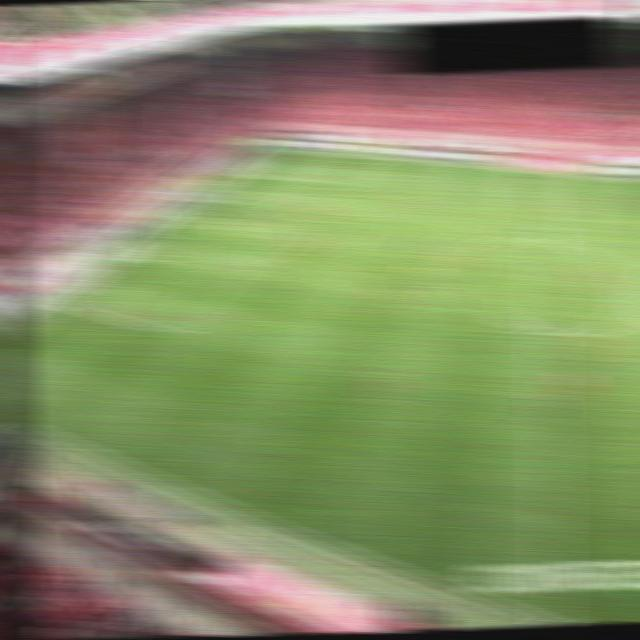bigarea_bottom_inner: (151, 320, 185, 342)
bigarea_bottom_outter: (41, 293, 76, 312)
bigarea_top_inner: (299, 172, 331, 187)
bigarea_top_outter: (215, 163, 248, 180)
bottom_arc_area_intersection: (217, 254, 249, 270)
corner: (248, 142, 285, 156)
halfcircle_bottom: (525, 313, 569, 344)
halfcircle_top: (524, 226, 566, 249)
midline_bottom_intersection: (530, 610, 574, 625)
midline_top_intersection: (523, 162, 560, 183)
smallarea_bottom_inner: (133, 249, 168, 269)
smallarea_bottom_outter: (104, 246, 138, 262)
smallarea_top_inner: (209, 191, 243, 208)
smallarea_top_outter: (182, 191, 213, 205)
top_arc_area_intersection: (267, 207, 300, 218)
